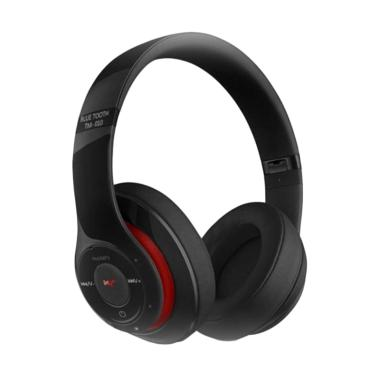Headphone: (64, 26, 315, 350)
